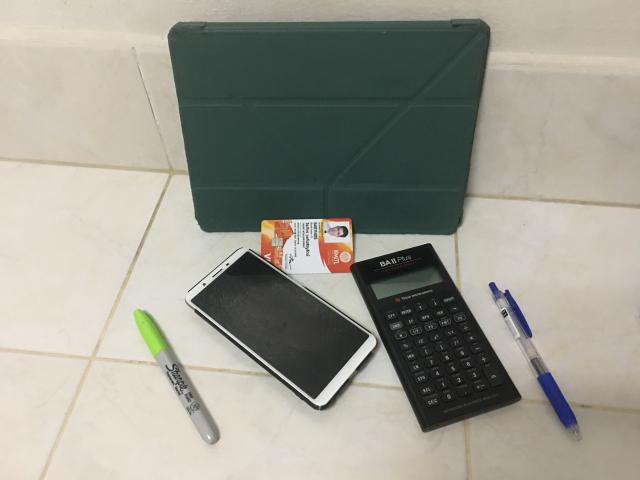Mobile phone: (185, 248, 376, 409)
Pen: (489, 282, 581, 440), (134, 310, 219, 444)
